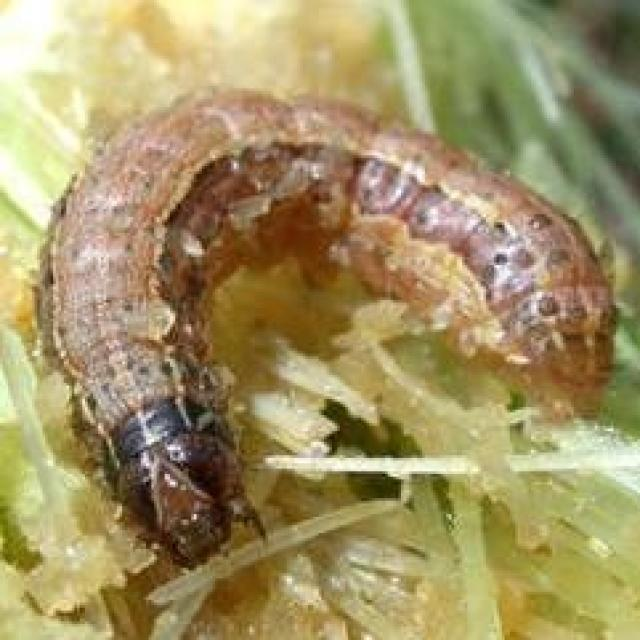army worm: (33, 77, 617, 573)
